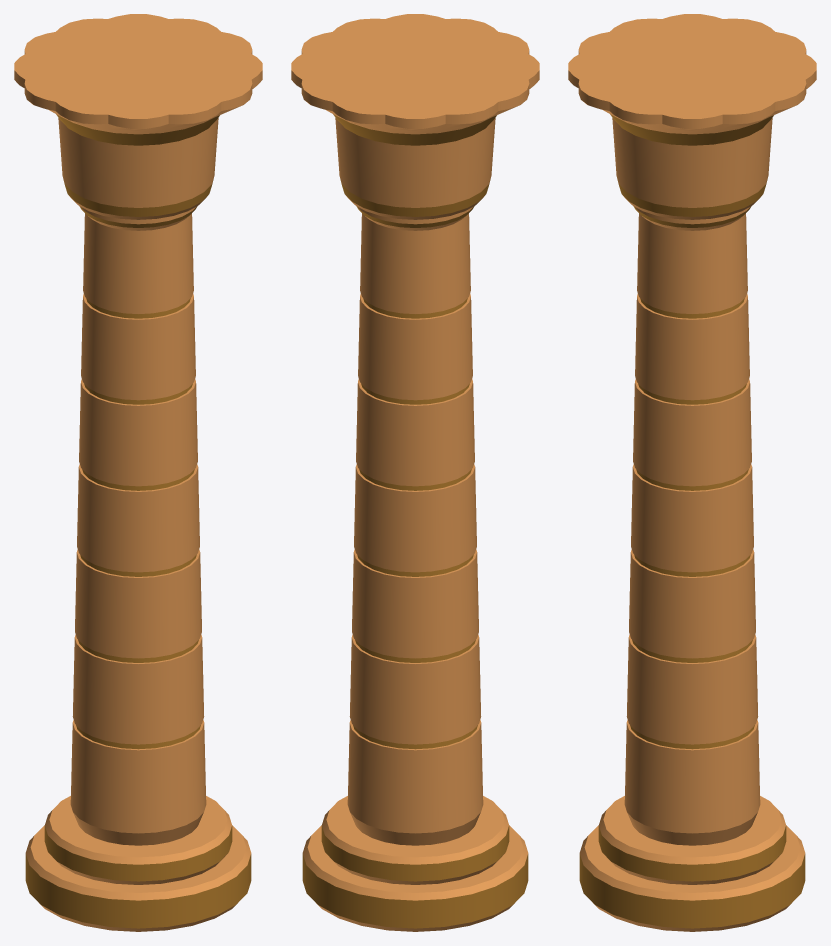
The model's file is column.fbx.
3 views of the same model, side by side, from view 1: azimuth 30°, elevation 25°; view 2: azimuth 150°, elevation 25°; view 3: azimuth 270°, elevation 25° (orthographic).
Parts seen in each view (by area): view 1: Cylinder; view 2: Cylinder; view 3: Cylinder.
Boxes of the visible parts, box(x1,y1,x2,y2) form: Cylinder: box(14, 14, 262, 931); Cylinder: box(291, 14, 539, 931); Cylinder: box(568, 14, 816, 931).
Bounding box in the file's own units: 82.49 × 300 × 82.49.
